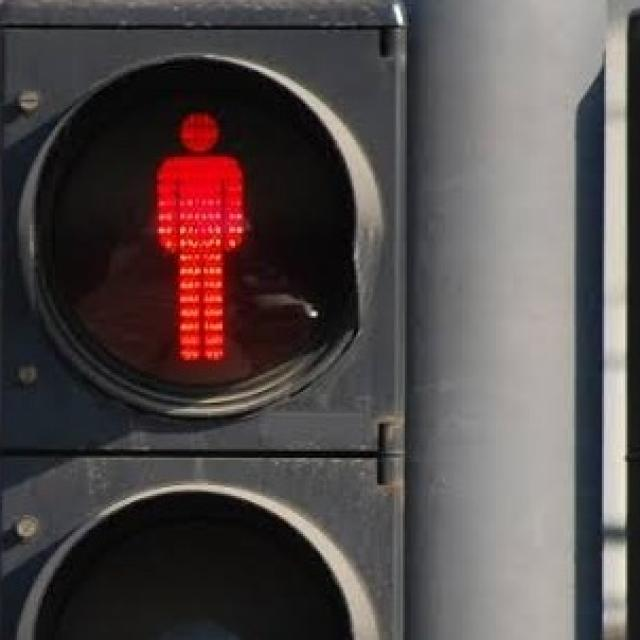red_light: (61, 82, 335, 384)
